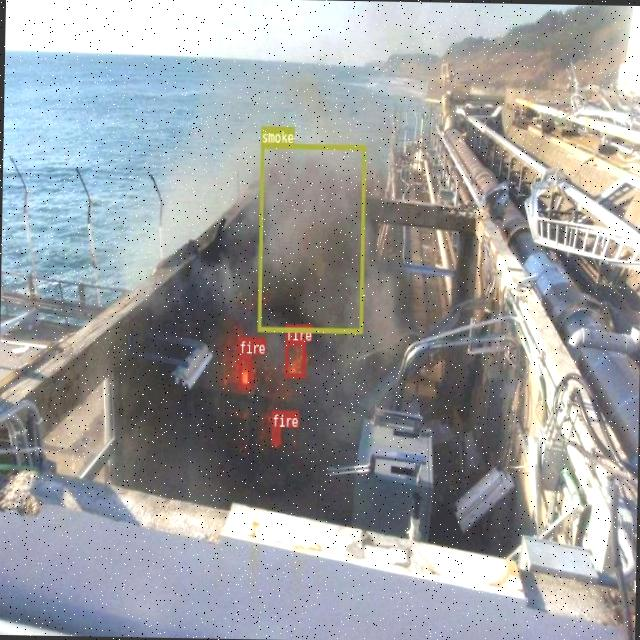fire: (284, 340, 305, 377), (237, 353, 250, 388), (270, 426, 280, 442)
smoke: (257, 142, 365, 332)
